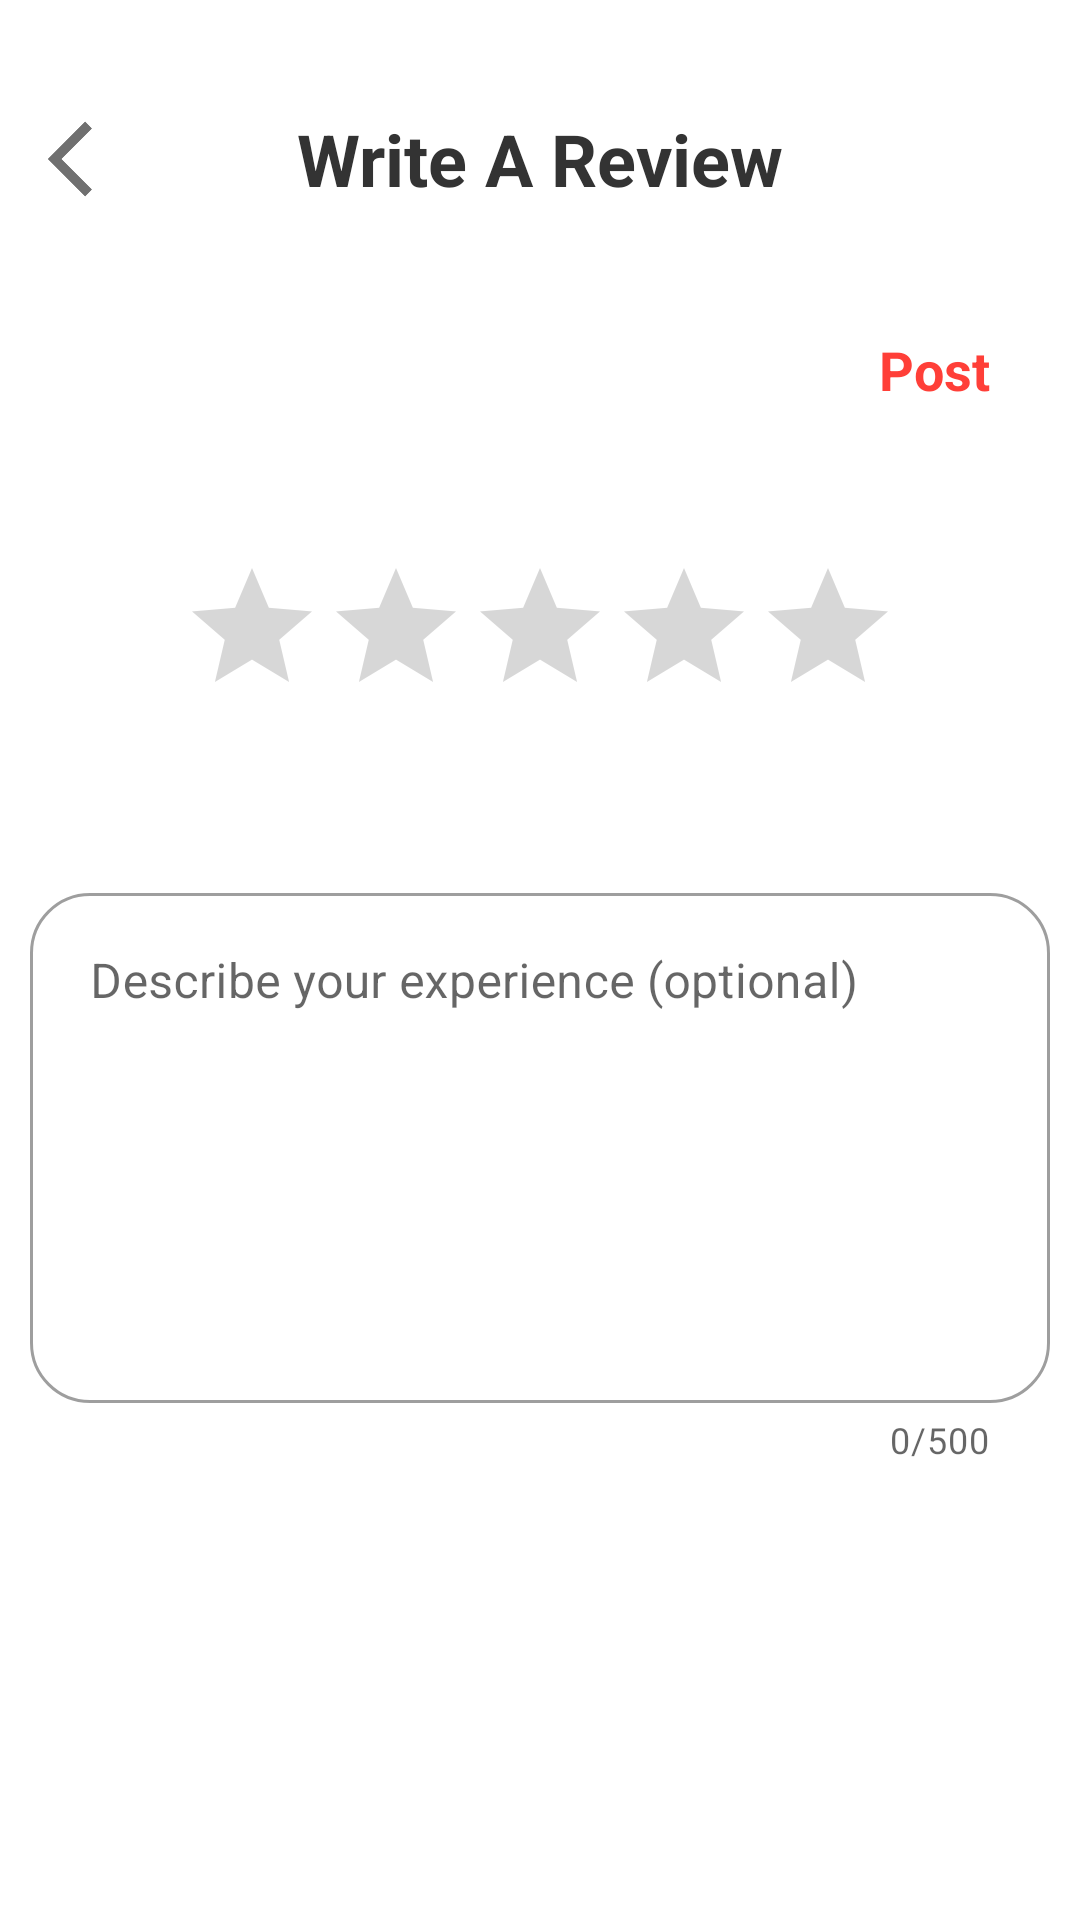

Icons on this 1080px×1920px Android screen, each with its box as bbox=(x1, y1, x2, y2):
left arrow back: bbox=(48, 122, 92, 196)
